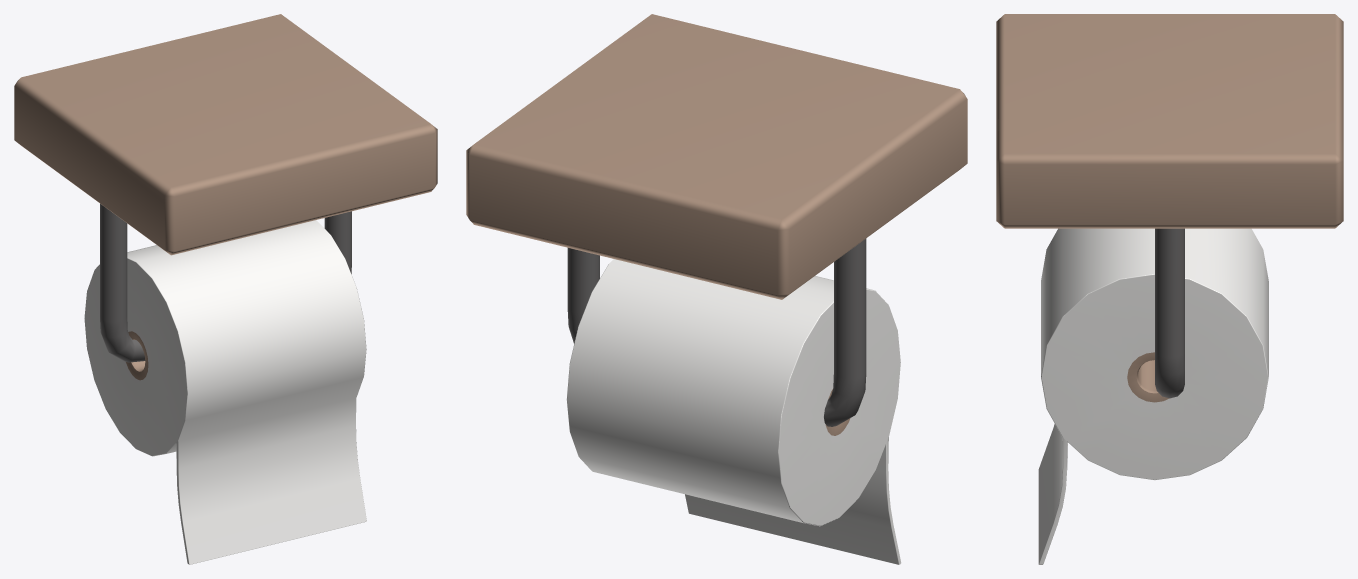
The model's file is Holder_with_toilet_paper.glb.
The picture shows the model from 3 angles, left to right: view 1: azimuth 30°, elevation 25°; view 2: azimuth 150°, elevation 25°; view 3: azimuth 270°, elevation 25°; orthographic projection. The views are drawn at different scales.
Visible parts, largest first — view 1: Holder_with_toilet_paper; view 2: Holder_with_toilet_paper; view 3: Holder_with_toilet_paper.
Part boxes in pixels (x1,y1,x2,y2): Holder_with_toilet_paper: [14, 14, 437, 564]; Holder_with_toilet_paper: [466, 14, 967, 564]; Holder_with_toilet_paper: [996, 14, 1343, 564].
Size of the model in its own units: 0.3025 by 0.4208 by 0.3025.
Materials: 1 (1 with a texture image).
